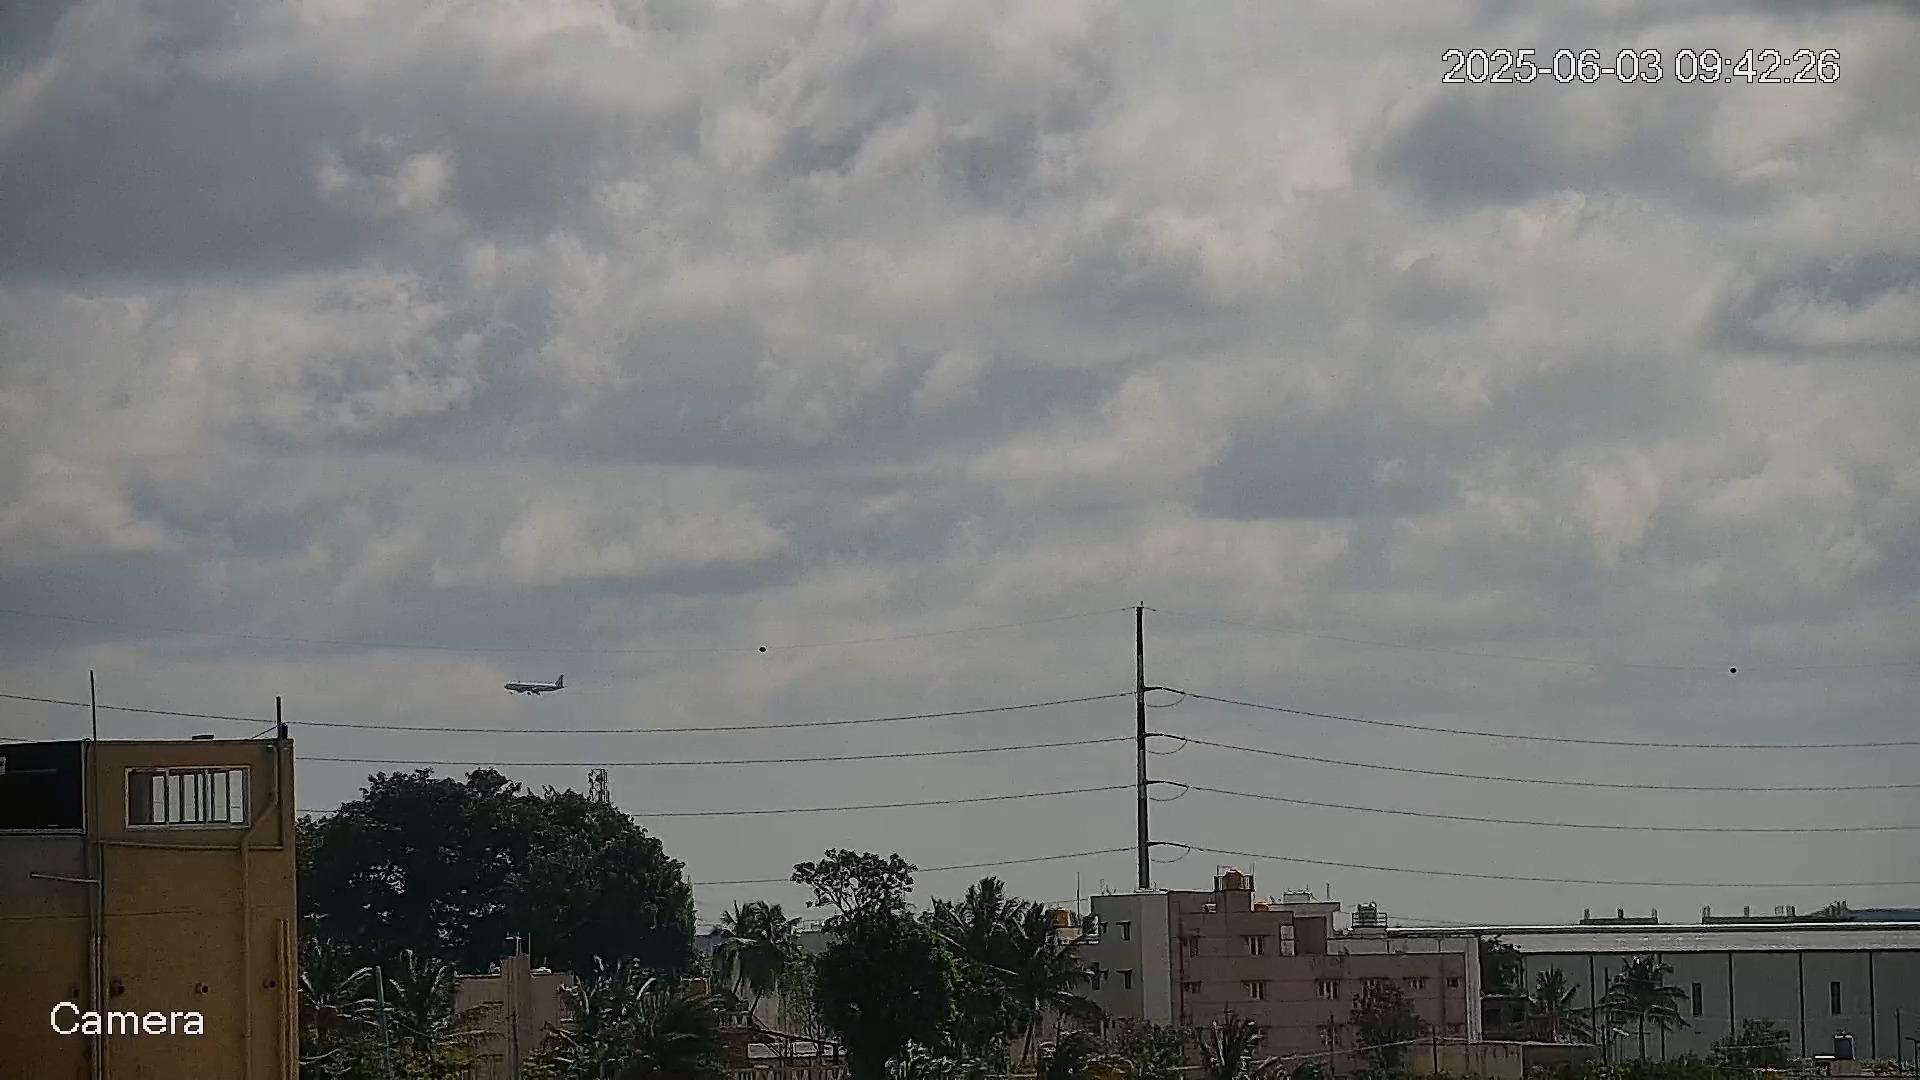Aircraft: (502, 673, 567, 696)
